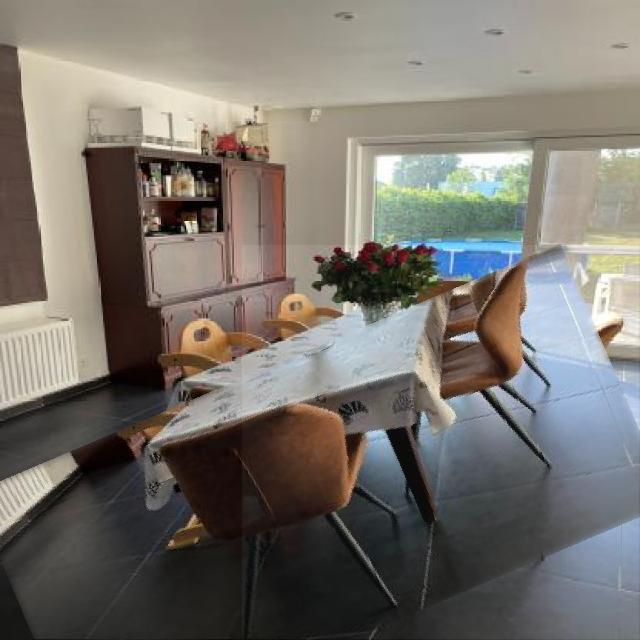floor: (242, 245, 640, 640), (0, 455, 249, 640)
